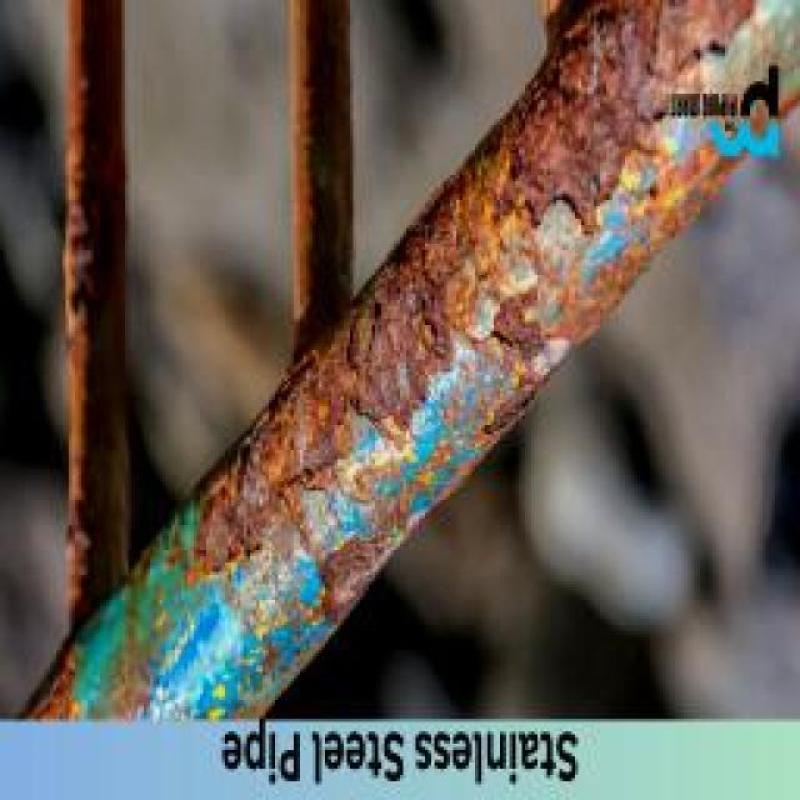corrosion: (68, 9, 123, 620), (543, 36, 773, 181), (392, 236, 594, 392), (92, 578, 294, 718), (291, 4, 350, 318)
